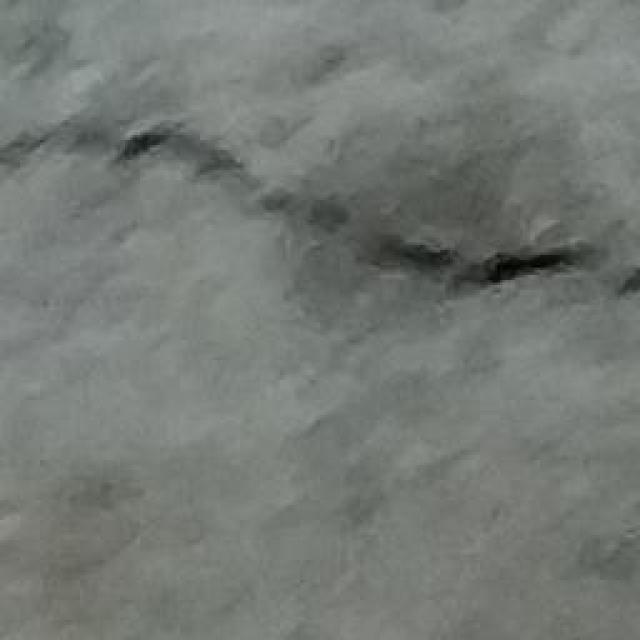Transverse: (1, 86, 640, 306)
